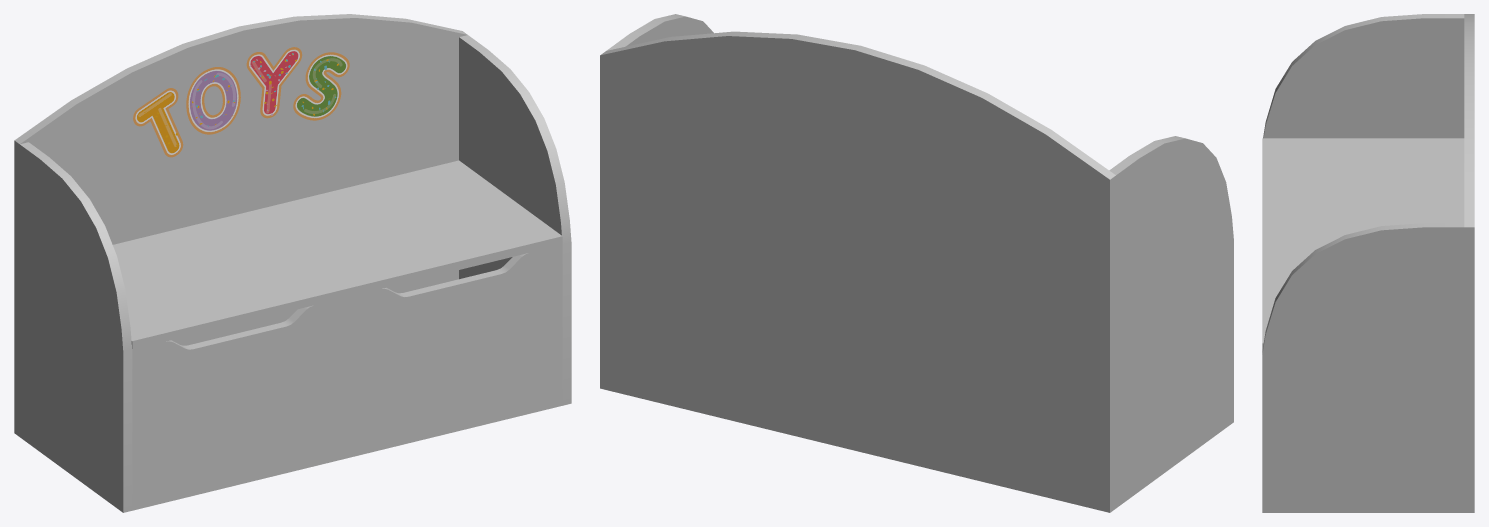
File: Toy_Box_01.FBX
3 views of the same model, side by side, from view 1: azimuth 30°, elevation 25°; view 2: azimuth 150°, elevation 25°; view 3: azimuth 270°, elevation 25° (orthographic). The views are drawn at different scales.
Visible parts, largest first — view 1: Toy_Box_01, Top, Letters; view 2: Toy_Box_01; view 3: Toy_Box_01, Top.
Boxes of the visible parts, x1,y1,x2,y2 form: Toy_Box_01: [14, 14, 571, 512]; Top: [113, 160, 562, 349]; Letters: [133, 47, 349, 157]; Toy_Box_01: [600, 14, 1233, 512]; Toy_Box_01: [1262, 14, 1474, 512]; Top: [1262, 138, 1464, 350].
Size of the model in its own units: 1.38 by 1.04 by 0.5817.
